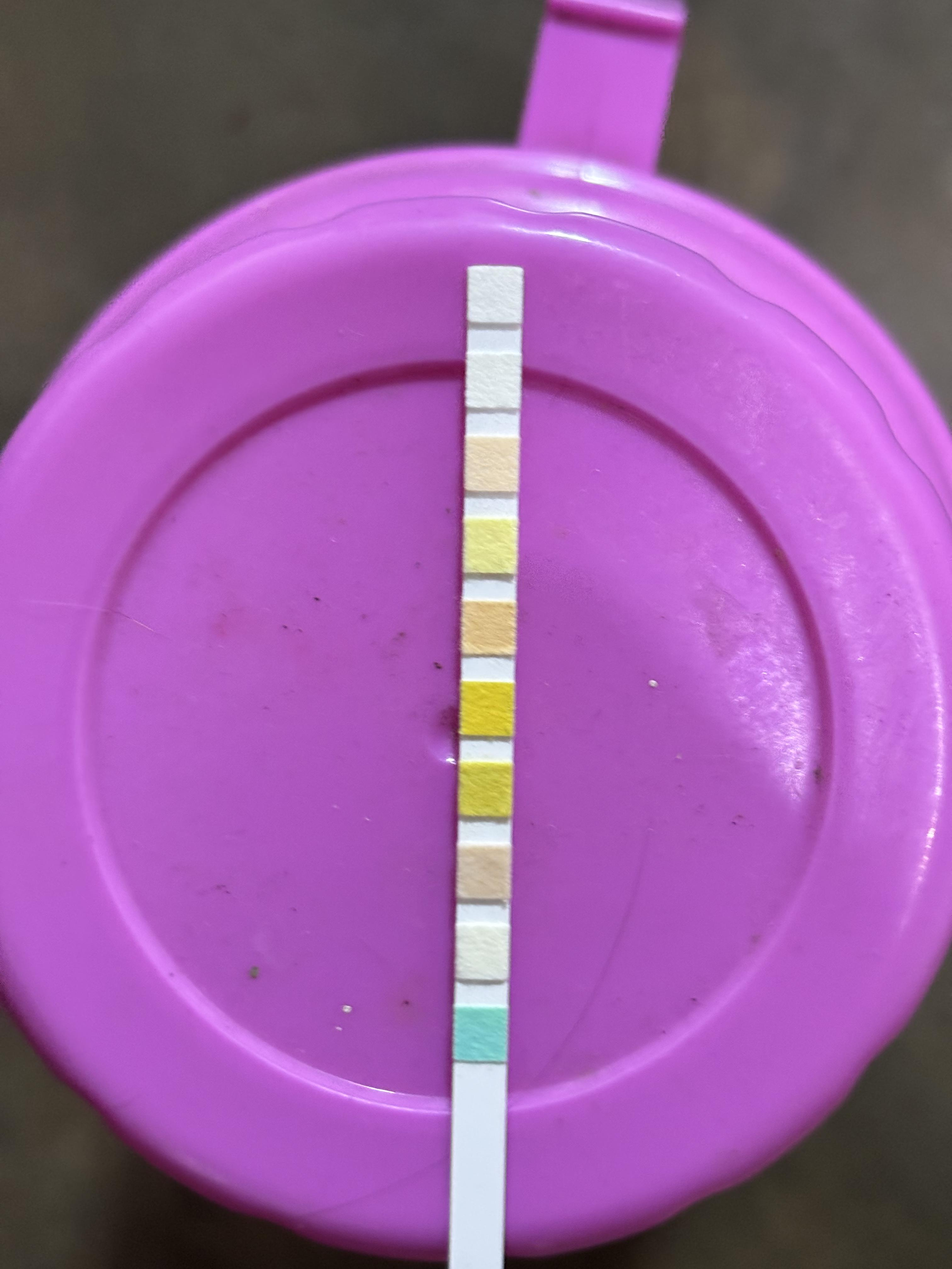Bilirubin: (458, 926, 507, 978)
Blood: (463, 685, 511, 734)
Glucose: (456, 1009, 506, 1061)
Ketone: (459, 849, 507, 897)
Leukocytes: (469, 267, 521, 320)
Nitrite: (468, 355, 520, 407)
Protein: (464, 522, 516, 572)
SpGravity: (459, 766, 510, 815)
Urobilinogen: (467, 439, 517, 491)
pH: (464, 606, 513, 653)
strip: (450, 264, 522, 1269)
